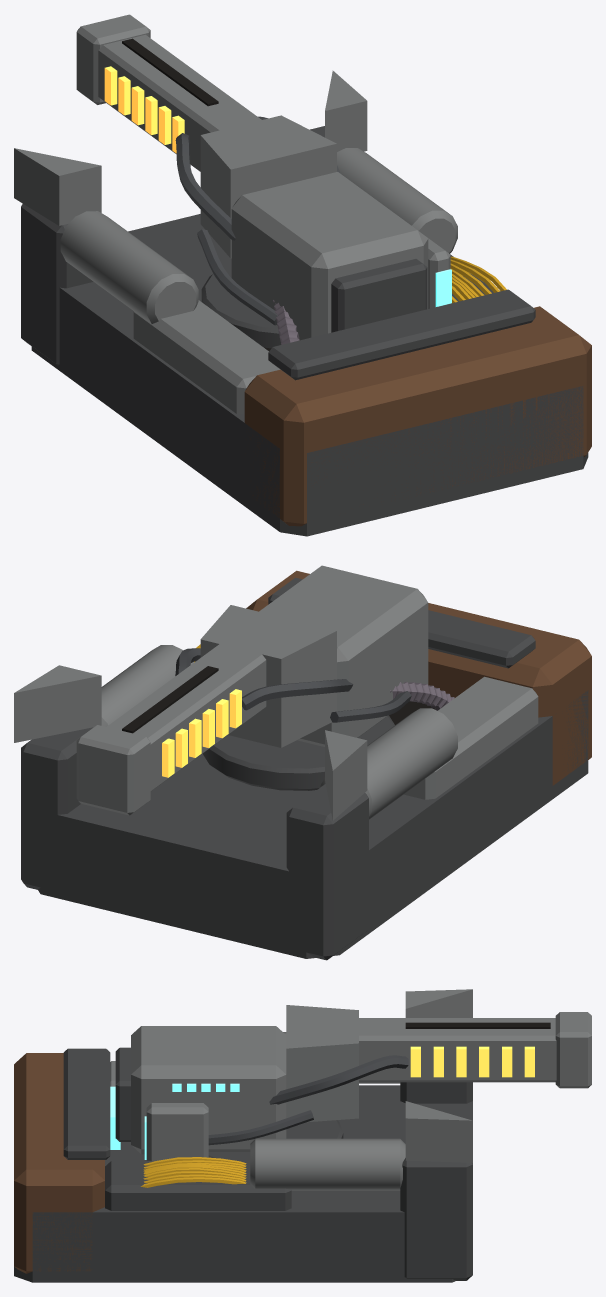
Rendered from railgun-turret.glb.
The picture shows the model from 3 angles, top to bottom: view 1: azimuth 30°, elevation 25°; view 2: azimuth 150°, elevation 25°; view 3: azimuth 270°, elevation 25°; orthographic projection. The views are drawn at different scales.
Parts seen in each view (by area): view 1: body, anim_turret_head; view 2: body, anim_turret_head; view 3: body, anim_turret_head.
Boxes of the visible parts, box(x1,y1,x2,y2) form: body: box(14, 70, 591, 536); anim_turret_head: box(76, 14, 428, 340); body: box(14, 570, 591, 960); anim_turret_head: box(76, 565, 428, 815); body: box(14, 989, 472, 1282); anim_turret_head: box(115, 1005, 591, 1154).
Bounding box in the file's own units: 3 × 2.1 × 5.58.
